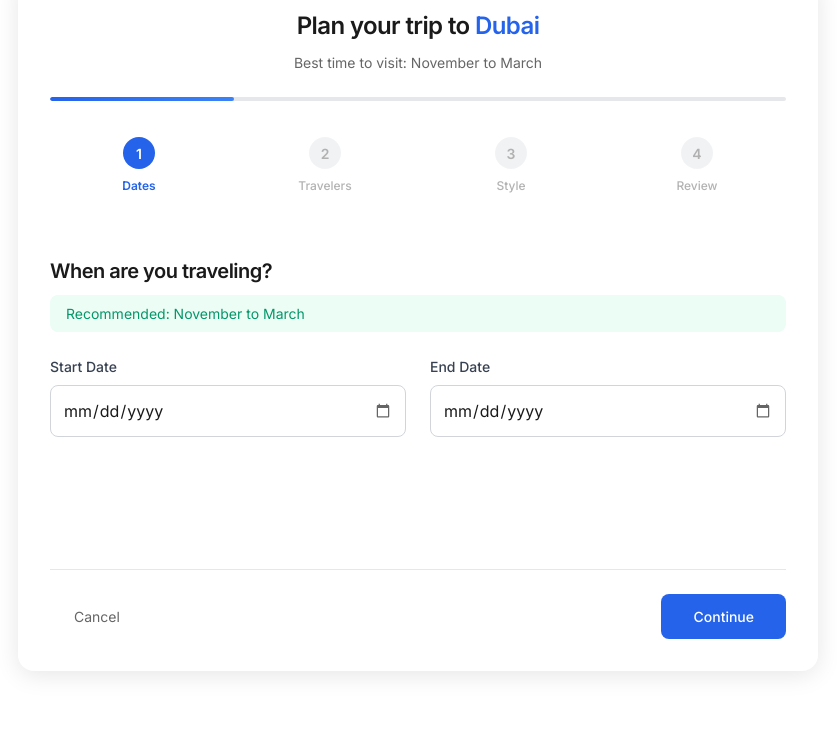
TripSetupWizard Integration › Complete Wizard Flow › should complete full wizard flow from start to finish
Expected: the element with test id "step-dates" is shown, [50,239,786,469]
Click the button "Continue" at (724, 616), box [662,594,786,639]
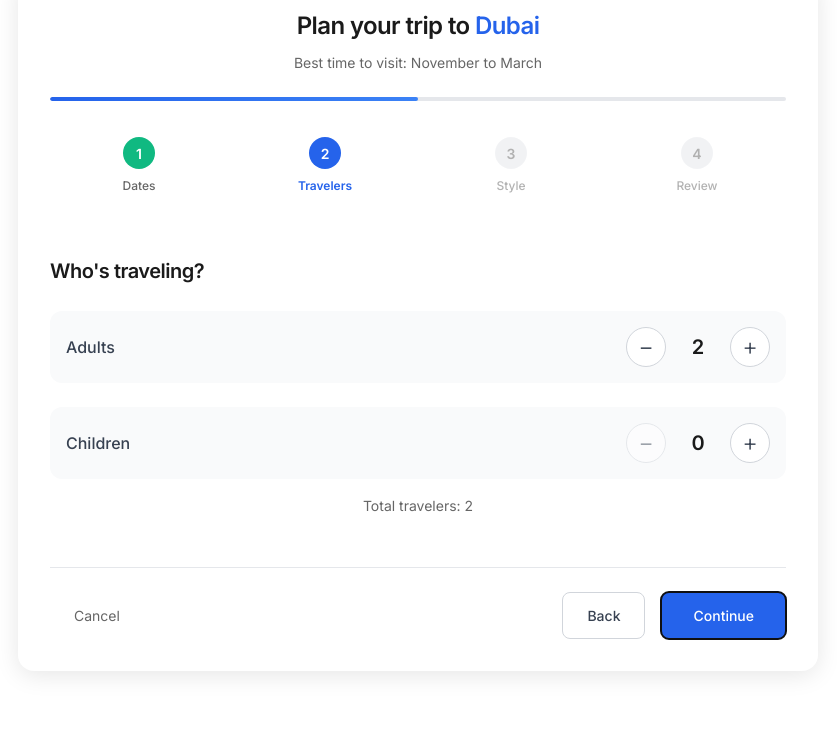
Result: the element with test id "step-travelers" is shown at [50,239,786,532]
Click the button "Continue" at (724, 616), box [662,592,786,639]
(page scrolled)
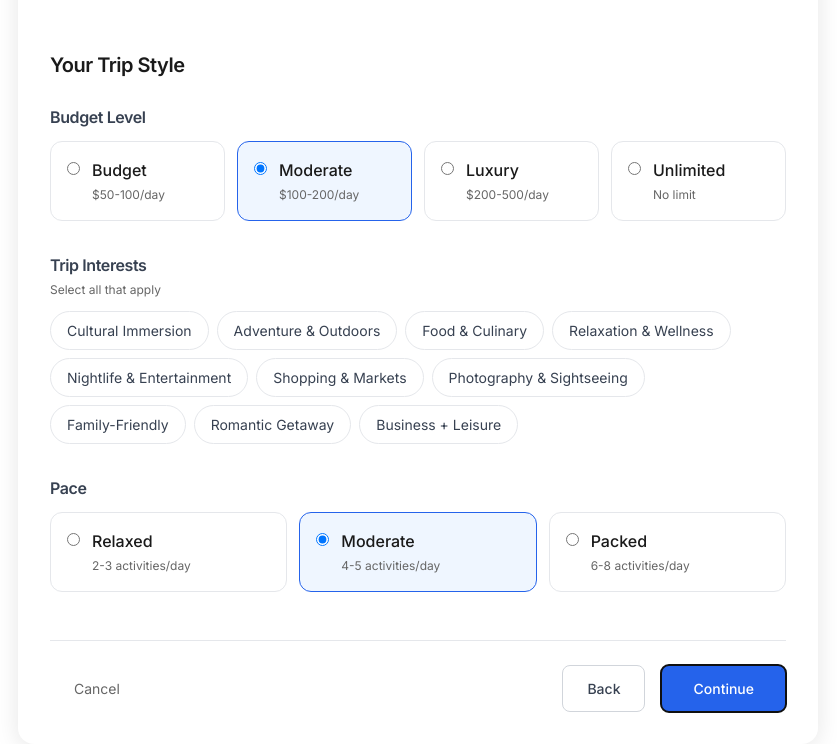
Result: the element with test id "step-preferences" is shown
Click the button "Continue" at (724, 688), box [662,665,786,712]
(page scrolled)
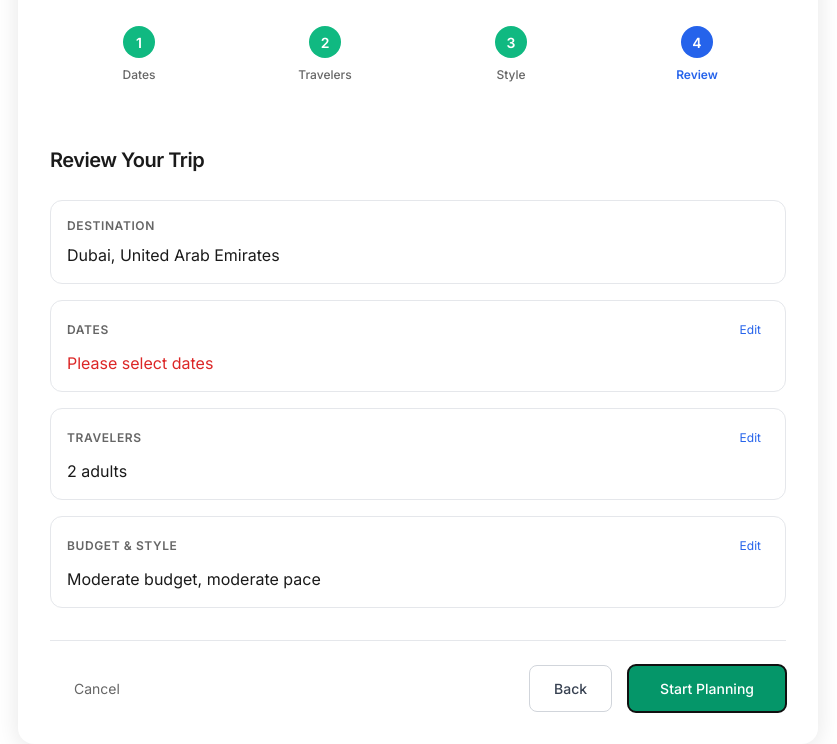
Result: the element with test id "step-review" is shown
Result: the button "Start Planning" is shown at [628,665,786,712]
